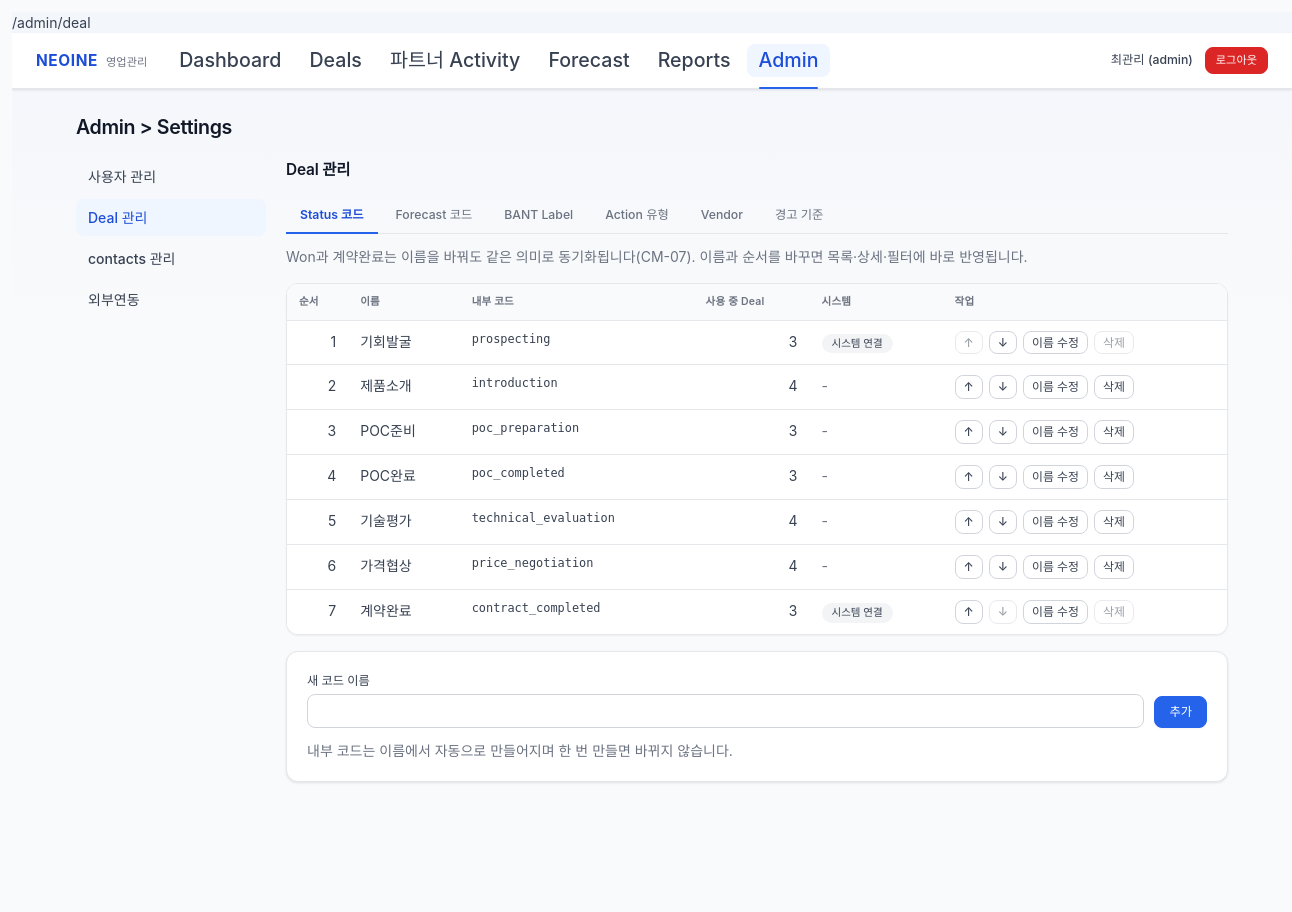
it: 경고 기준 탭 (AC-14) › saves a new value, shows who saved it and keeps the value after reload
This screenshot has width=1292, height=912.
Click the tab "경고 기준".
click(799, 216)  # box [761,198,837,234]
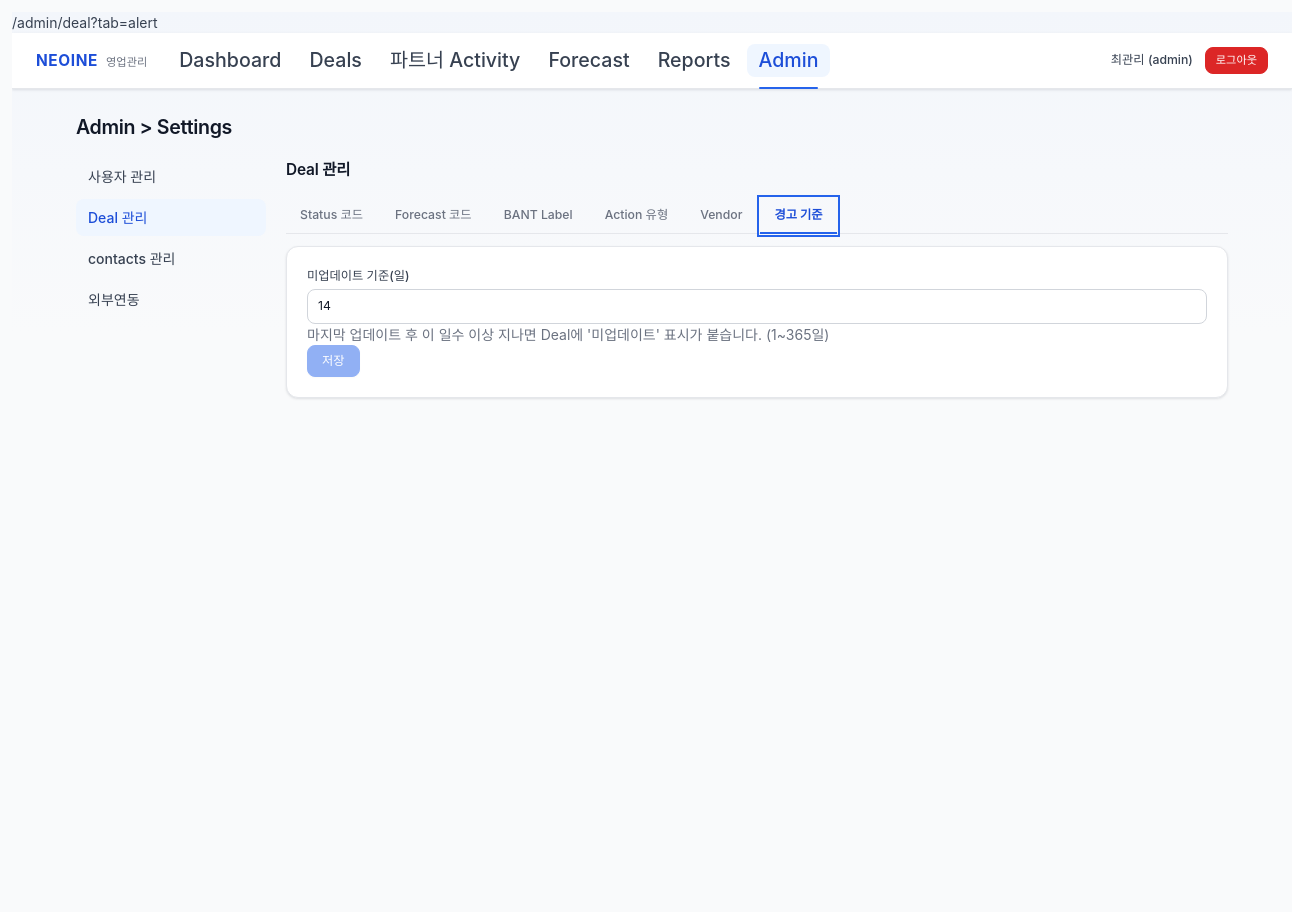
Replace the text in the number field labelled "미업데이트 기준(일)" with "30" at (757, 306), box [307,289,1207,324]
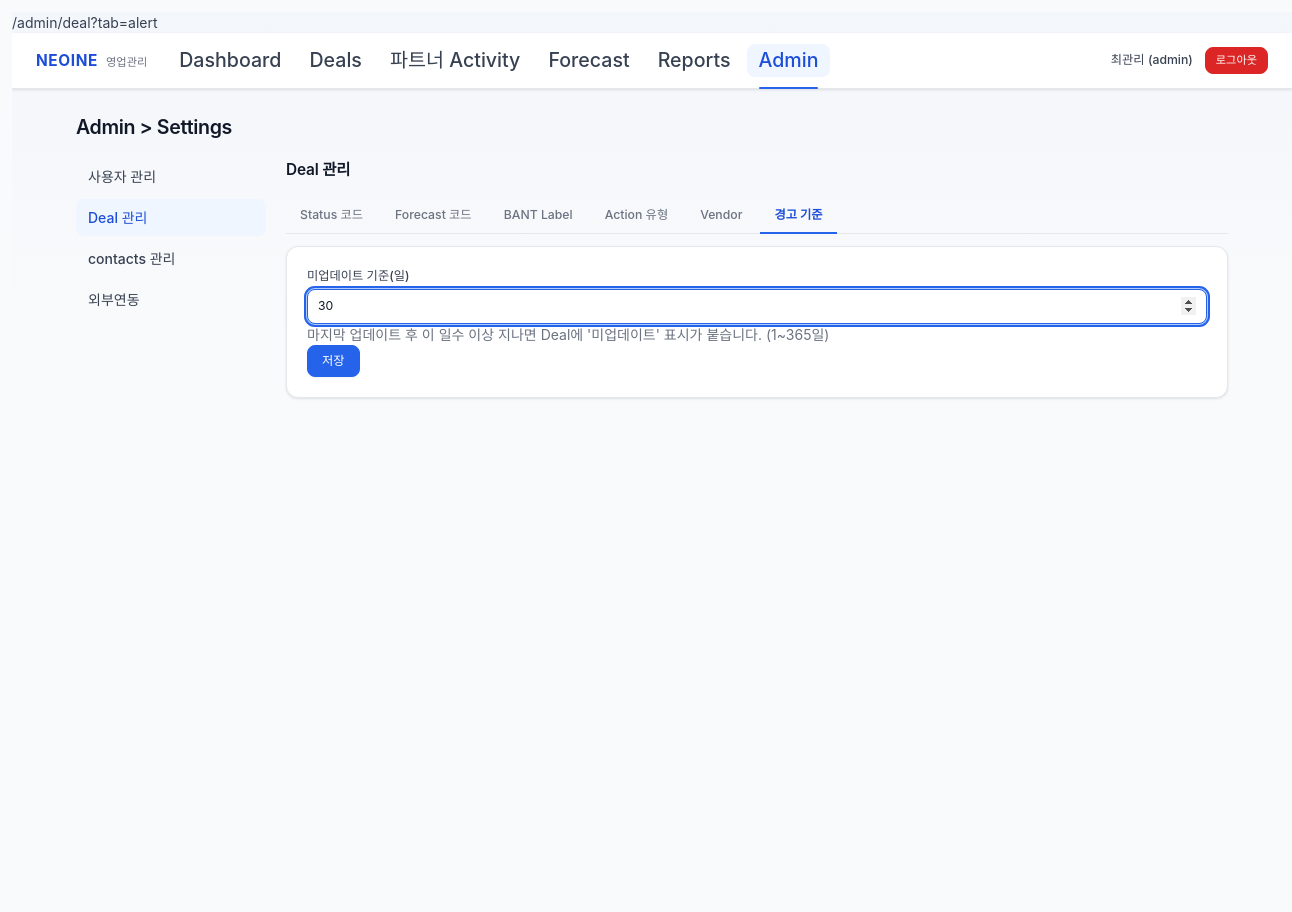
Click the button "저장".
click(333, 361)  # box [307,345,360,377]
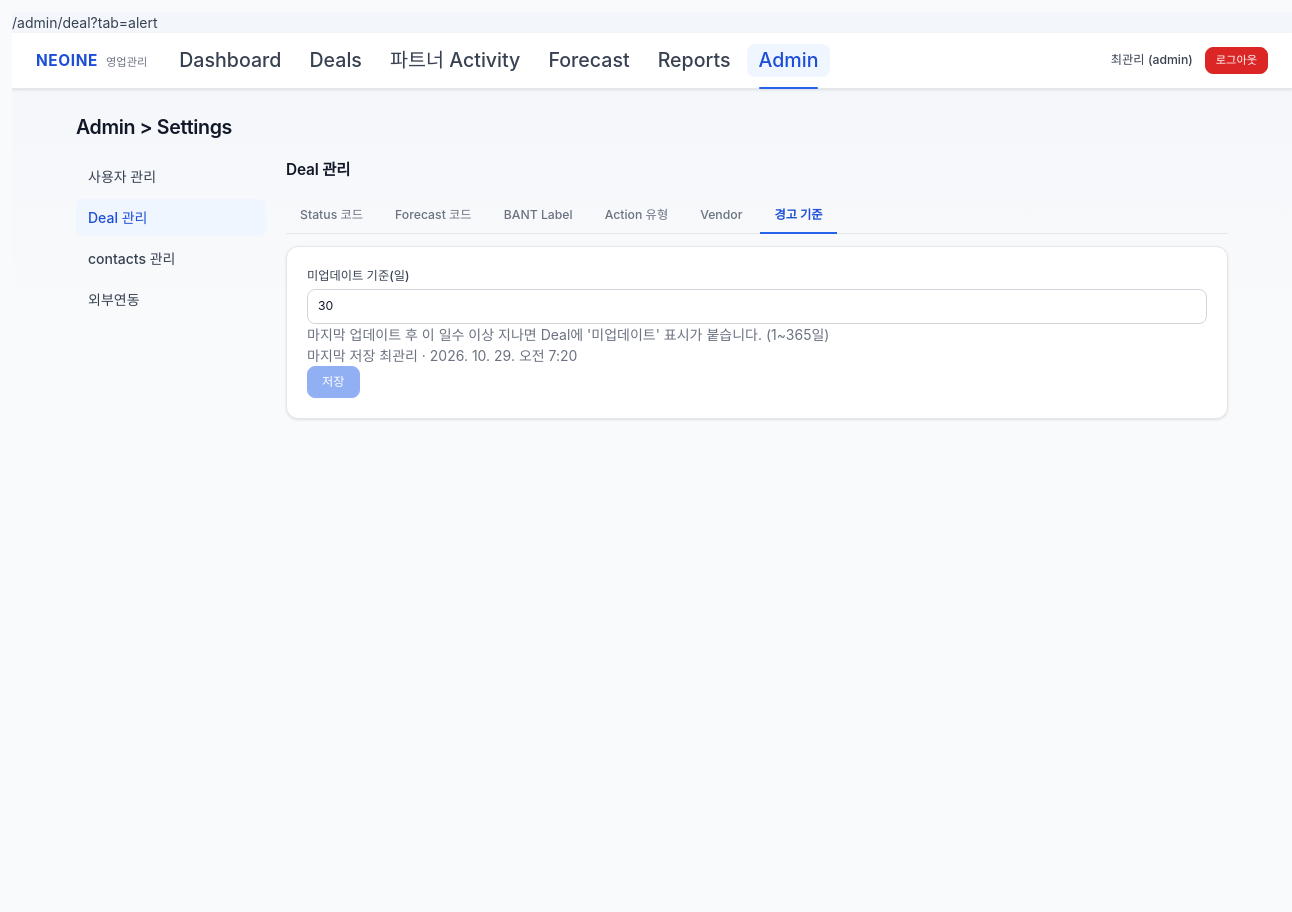
Expected: the text "마지막 저장 최관리 · 2026. 10. 29. 오전 7:20" is shown, [307,347,578,364]
Expected: the number field labelled "미업데이트 기준(일)" holds "30", [307,289,1207,324]
